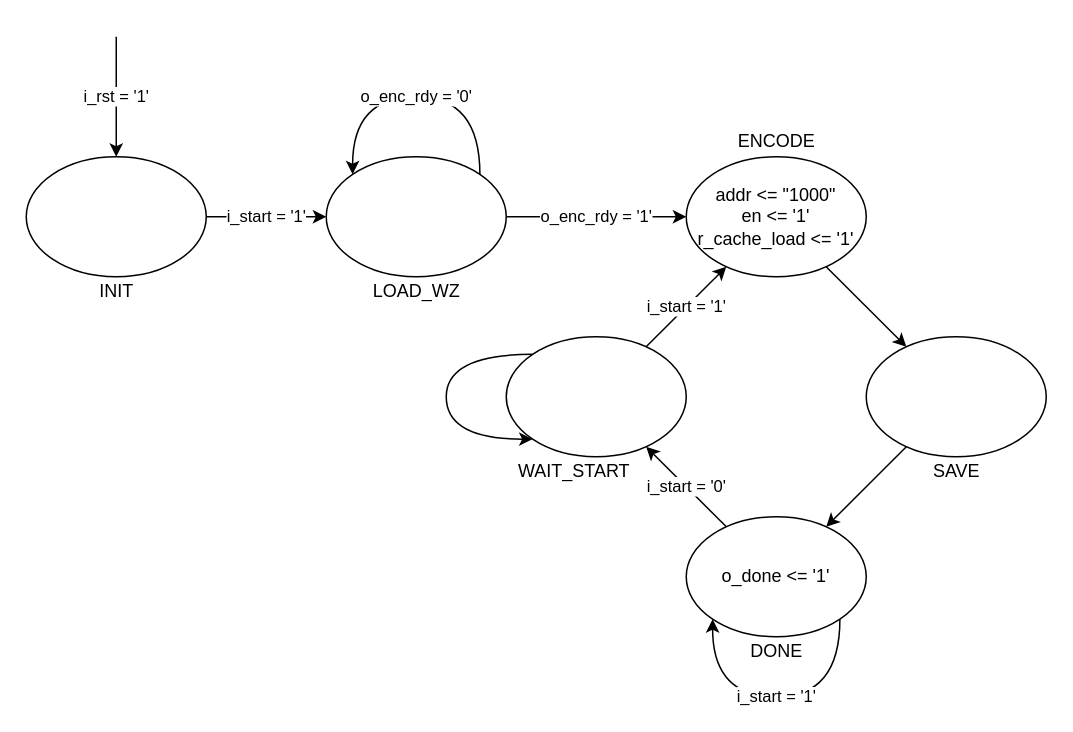
This 1073x732 diagram has some shape labels left out. The shapes that lost their labels are listed below. From the top down, each one's centre as x and y in pixels, then its label:
pixel 415 216: count_en <= '1' en <= '1' sel_counter <= '1'
pixel 955 396: addr <= "1001" en <= '1' we <= '1'
